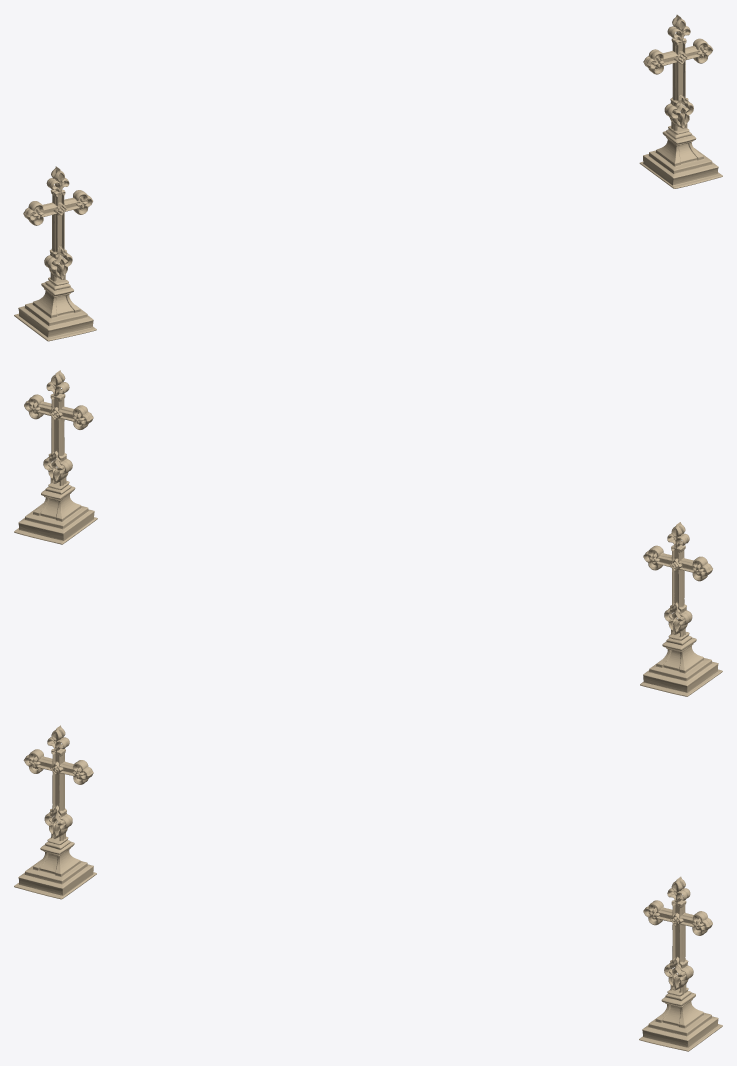
File: altar-cross-sides.glb
The picture shows the model from 3 angles, top to bottom: view 1: azimuth 30°, elevation 25°; view 2: azimuth 150°, elevation 25°; view 3: azimuth 330°, elevation 25°; orthographic projection.
Parts seen in each view (by area): view 1: ALTAR_ACC_HYPER3D_CROSS_RIGHT_MASTER, ALTAR_ACC_HYPER3D_CROSS_LEFT_MASTER; view 2: ALTAR_ACC_HYPER3D_CROSS_RIGHT_MASTER, ALTAR_ACC_HYPER3D_CROSS_LEFT_MASTER; view 3: ALTAR_ACC_HYPER3D_CROSS_RIGHT_MASTER, ALTAR_ACC_HYPER3D_CROSS_LEFT_MASTER.
Boxes of the visible parts, x1,y1,x2,y2 form: ALTAR_ACC_HYPER3D_CROSS_RIGHT_MASTER: (639, 14, 722, 188); ALTAR_ACC_HYPER3D_CROSS_LEFT_MASTER: (14, 166, 96, 341); ALTAR_ACC_HYPER3D_CROSS_RIGHT_MASTER: (14, 370, 97, 544); ALTAR_ACC_HYPER3D_CROSS_LEFT_MASTER: (640, 522, 722, 696); ALTAR_ACC_HYPER3D_CROSS_RIGHT_MASTER: (639, 876, 722, 1051); ALTAR_ACC_HYPER3D_CROSS_LEFT_MASTER: (14, 725, 96, 899).
Bounding box in the file's own units: 5.89 × 1.28 × 0.5374.
